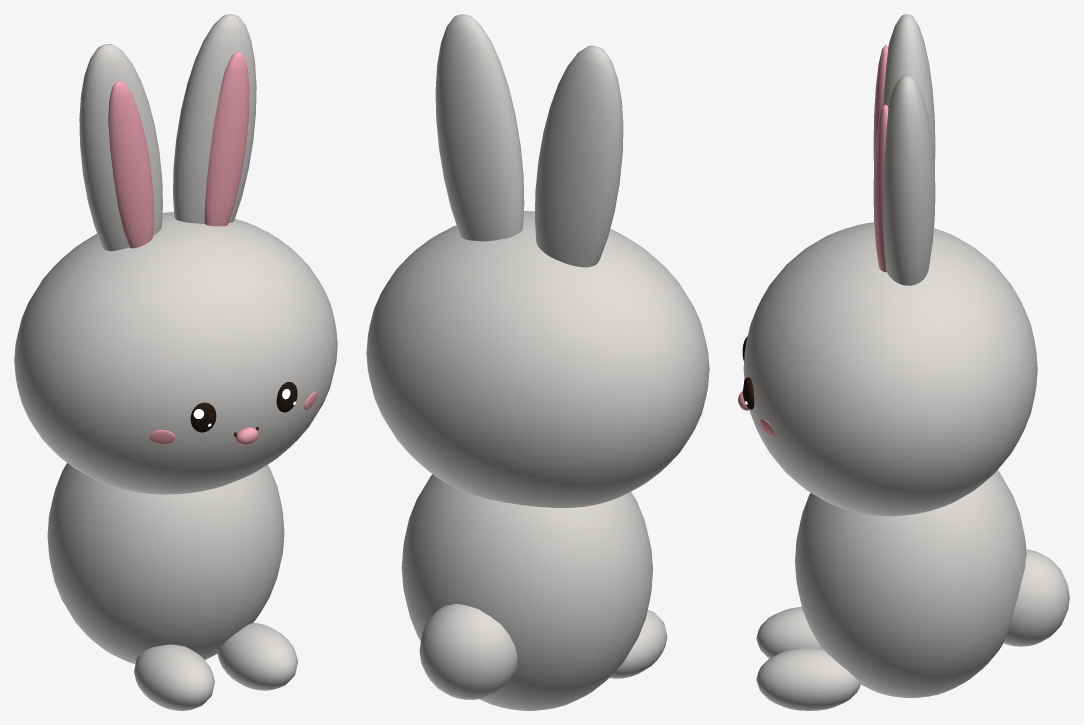
Rendered from p-bunny.glb.
3 renders of one model, left to right at view 1: azimuth 30°, elevation 25°; view 2: azimuth 150°, elevation 25°; view 3: azimuth 270°, elevation 25°, orthographic. The views are drawn at different scales.
Parts seen in each view (by area): view 1: p-bunny, ear-L, ear-R, blink-R, blink-L; view 2: p-bunny, ear-L, ear-R; view 3: p-bunny, ear-L, ear-R.
Part boxes in pixels (<box>): p-bunny: <box>14,212,337,710</box>; ear-L: <box>173,14,256,226</box>; ear-R: <box>79,44,162,251</box>; blink-R: <box>190,402,216,432</box>; blink-L: <box>276,382,297,412</box>; p-bunny: <box>366,211,709,710</box>; ear-L: <box>435,14,524,241</box>; ear-R: <box>534,45,623,267</box>; p-bunny: <box>738,222,1069,710</box>; ear-L: <box>873,74,935,285</box>; ear-R: <box>873,14,935,169</box>.
Size of the model in its own units: 0.1248 by 0.26 by 0.1216.
